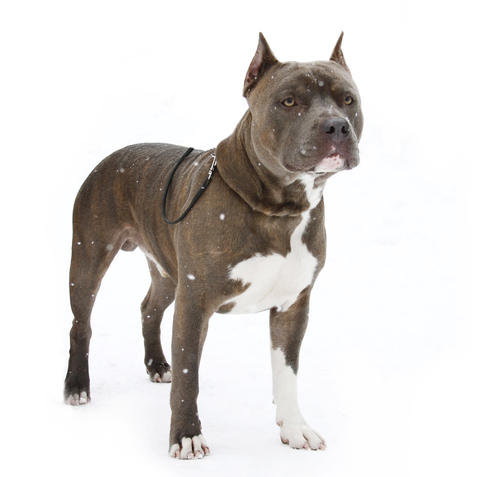dog: (234, 30, 388, 185)
